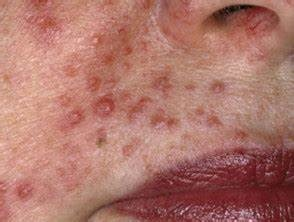Acne: (86, 29, 106, 51), (211, 78, 226, 96)
